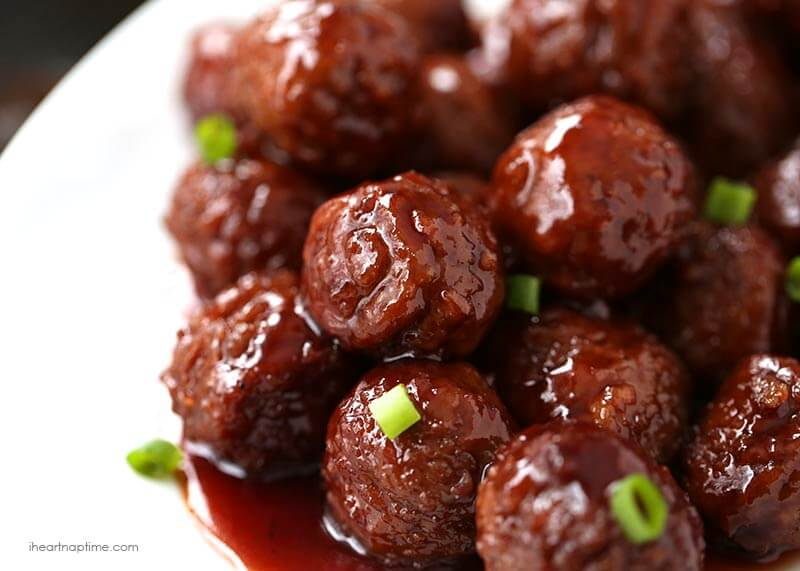meatballs: (262, 23, 730, 531)
